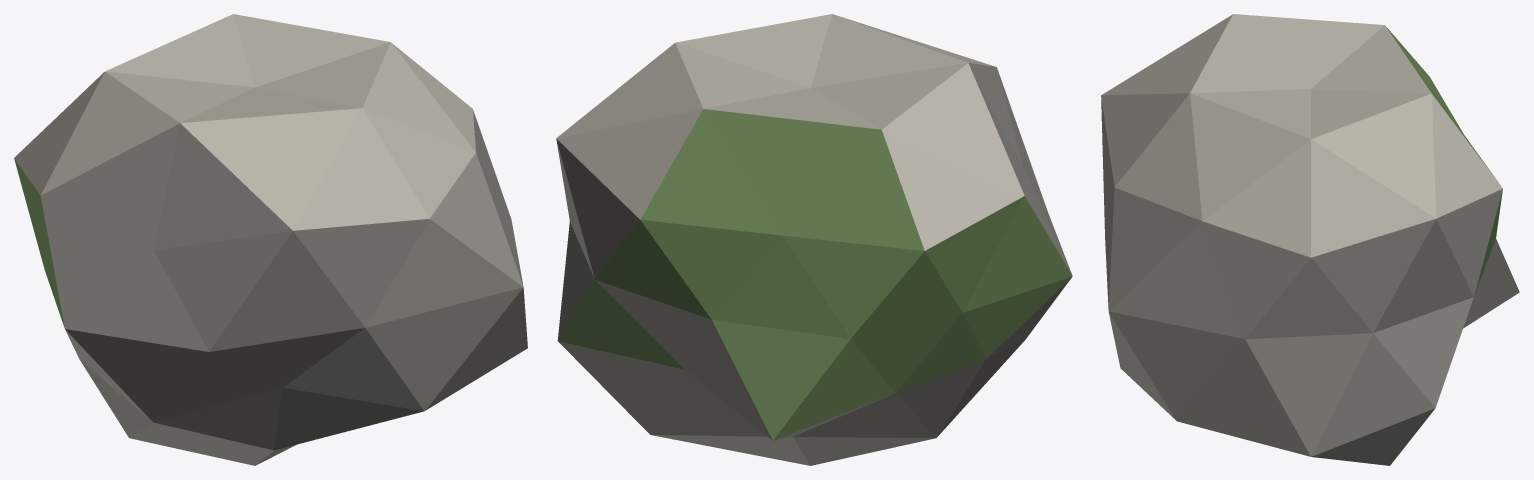
File: nat_rock_b_v01.glb
The picture shows the model from 3 angles, left to right: view 1: azimuth 30°, elevation 25°; view 2: azimuth 150°, elevation 25°; view 3: azimuth 270°, elevation 25°; orthographic projection. The views are drawn at different scales.
Parts seen in each view (by area): view 1: rock; view 2: rock; view 3: rock.
Part boxes in pixels (box(x1,y1,x2,y2)): rock: box(14, 14, 527, 465); rock: box(556, 14, 1072, 465); rock: box(1101, 14, 1519, 465).
Bounding box in the file's own units: 2.39 × 1.97 × 1.98.
